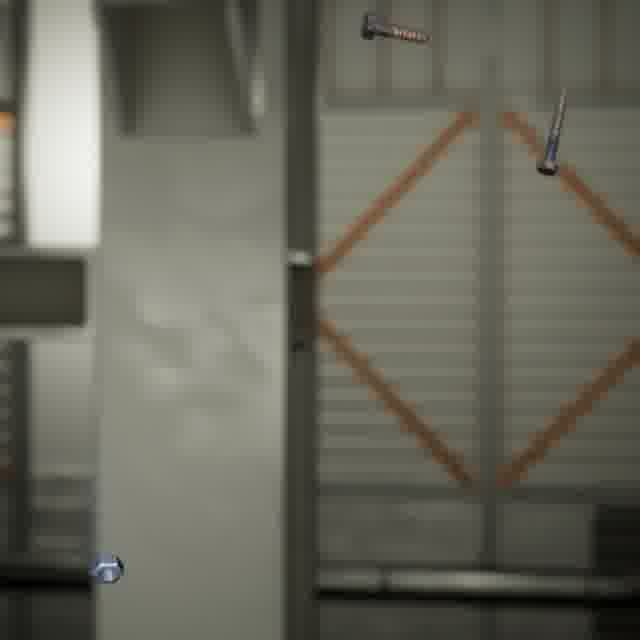bolt: (532, 84, 571, 180), (356, 7, 434, 49)
nut: (85, 549, 128, 588)
